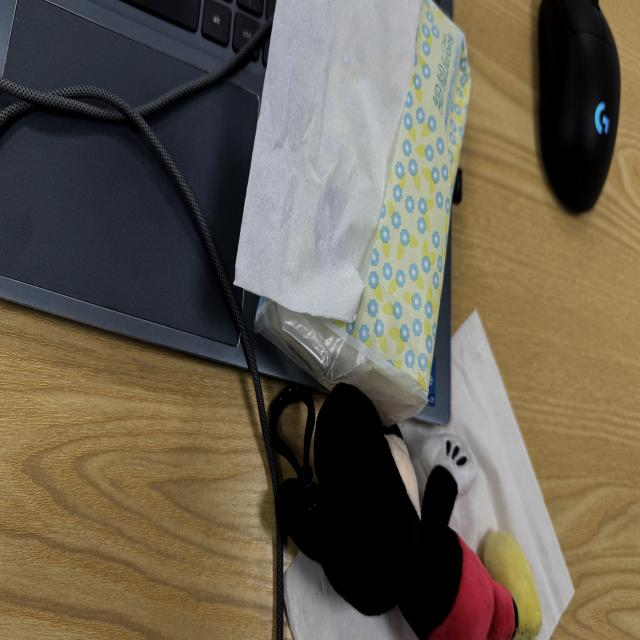mickey: (277, 384, 541, 639)
tissue: (256, 0, 470, 424), (235, 0, 420, 321)
